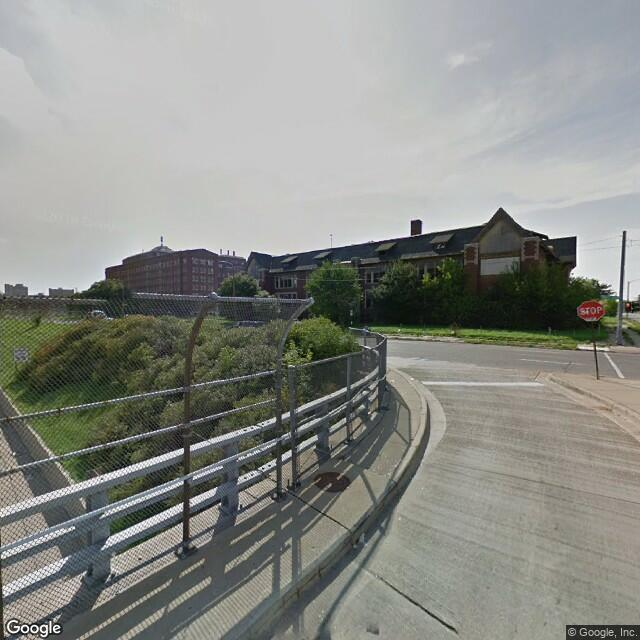litter: (353, 535, 367, 552), (388, 377, 397, 385), (449, 329, 457, 337), (408, 376, 418, 381), (397, 327, 401, 333)
